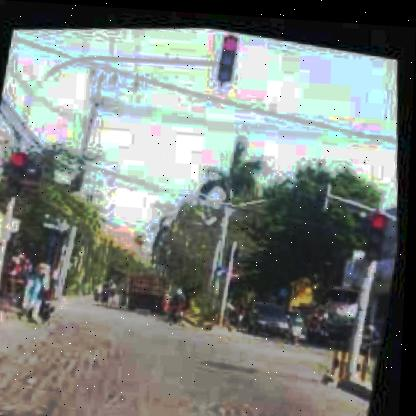Traffic Light -Red-: (366, 203, 394, 259), (217, 24, 245, 77), (8, 148, 35, 196)
